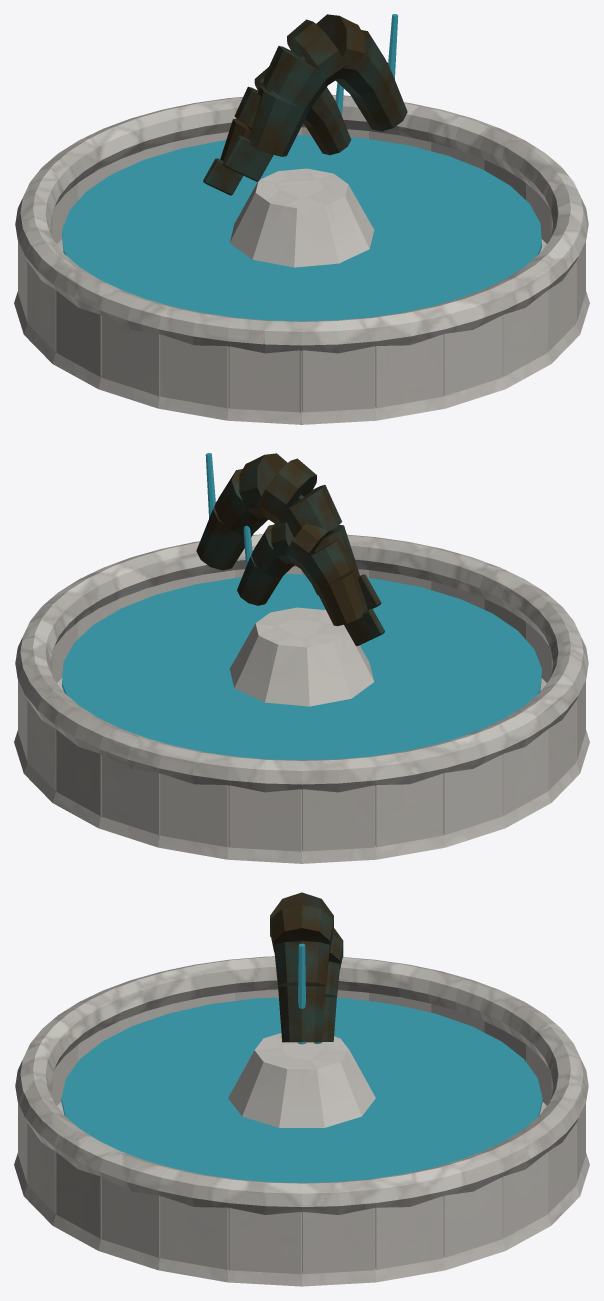
File: fountain_spout.glb
3 renders of one model, top to bottom at view 1: azimuth 30°, elevation 25°; view 2: azimuth 150°, elevation 25°; view 3: azimuth 270°, elevation 25°, orthographic.
Parts seen in each view (by area): view 1: Spout_opaque, Spout_water; view 2: Spout_opaque, Spout_water; view 3: Spout_opaque, Spout_water.
Part boxes in pixels (box(x1,y1,x2,y2)): Spout_opaque: box(14, 14, 589, 424); Spout_water: box(62, 14, 541, 321); Spout_opaque: box(14, 453, 589, 863); Spout_water: box(62, 453, 541, 760); Spout_opaque: box(14, 892, 589, 1286); Spout_water: box(61, 943, 542, 1182).
Size of the model in its own units: 3.64 by 1.94 by 3.64.
2 materials, 1 textured.
